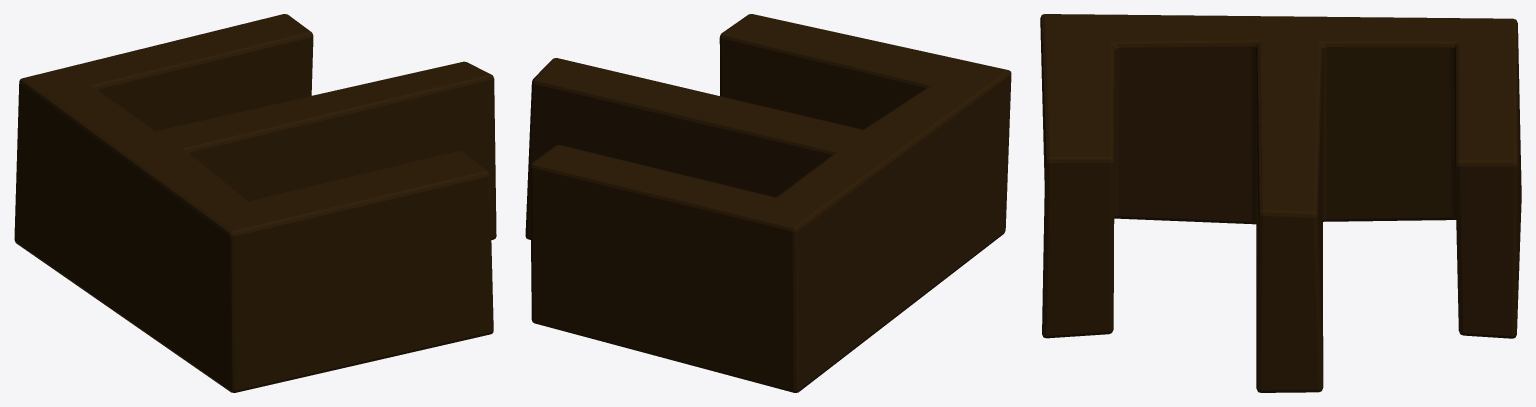
The model's file is Wall piece 10 collider.fbx.
3 renders of one model, left to right at view 1: azimuth 30°, elevation 25°; view 2: azimuth 150°, elevation 25°; view 3: azimuth 270°, elevation 25°, orthographic. The views are drawn at different scales.
Parts seen in each view (by area): view 1: wall piece 10 collider; view 2: wall piece 10 collider; view 3: wall piece 10 collider.
Part boxes in pixels (left/top/right/bottom): wall piece 10 collider: left=14, top=14, right=496, bottom=392; wall piece 10 collider: left=525, top=14, right=1011, bottom=392; wall piece 10 collider: left=1040, top=14, right=1521, bottom=392.
Size of the model in its own units: 997 by 1028 by 440.
